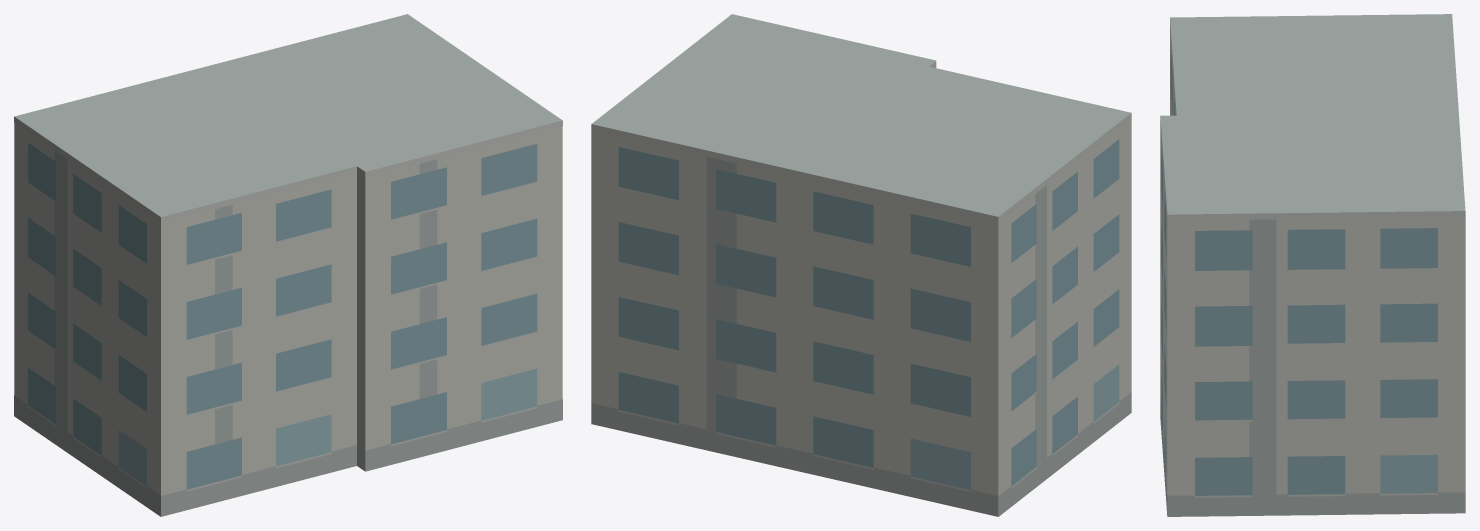
The model's file is residential-bd7ef9b8-cb43-4cce-8125-bcc0516884fa.glb.
3 views of the same model, side by side, from view 1: azimuth 30°, elevation 25°; view 2: azimuth 150°, elevation 25°; view 3: azimuth 270°, elevation 25° (orthographic).
Visible parts, largest first — view 1: residential-bd7ef9b8-cb43-4cce-8125-bcc0516884fa.tmp; view 2: residential-bd7ef9b8-cb43-4cce-8125-bcc0516884fa.tmp; view 3: residential-bd7ef9b8-cb43-4cce-8125-bcc0516884fa.tmp.
Boxes of the visible parts, x1,y1,x2,y2 form: residential-bd7ef9b8-cb43-4cce-8125-bcc0516884fa.tmp: [14, 14, 562, 516]; residential-bd7ef9b8-cb43-4cce-8125-bcc0516884fa.tmp: [591, 14, 1131, 516]; residential-bd7ef9b8-cb43-4cce-8125-bcc0516884fa.tmp: [1160, 14, 1465, 516].
Size of the model in its own units: 16.65 by 11.7 by 10.71.
